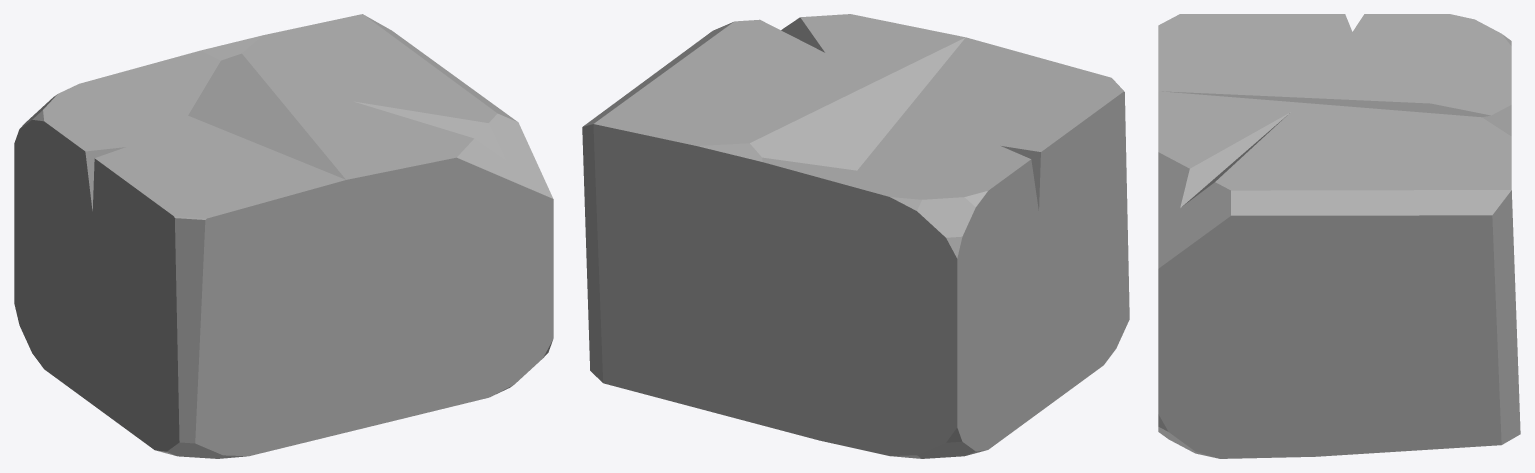
Rendered from Rock.fbx.
The picture shows the model from 3 angles, left to right: view 1: azimuth 30°, elevation 25°; view 2: azimuth 150°, elevation 25°; view 3: azimuth 270°, elevation 25°; orthographic projection. The views are drawn at different scales.
Parts seen in each view (by area): view 1: Rock; view 2: Rock; view 3: Rock.
Part boxes in pixels (x1,y1,x2,y2): Rock: (14,14,553,458); Rock: (582,14,1129,458); Rock: (1158,14,1520,458).
Size of the model in its own units: 177 by 124 by 145.
